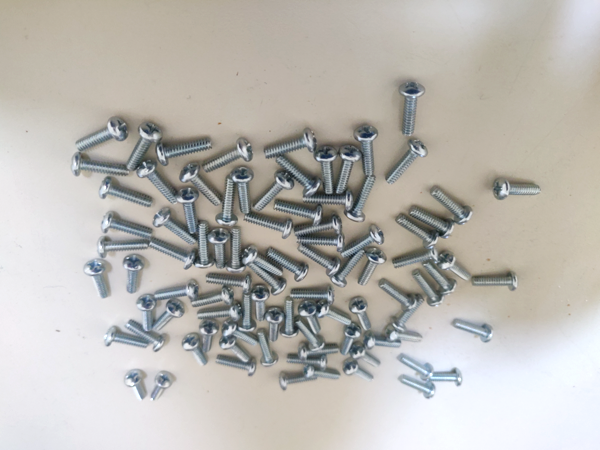shortscrew: (75, 116, 130, 153), (385, 139, 428, 185), (137, 160, 179, 206), (179, 163, 223, 206), (277, 156, 321, 198), (127, 121, 163, 172), (253, 169, 295, 212), (202, 139, 254, 173), (430, 187, 474, 226), (156, 137, 213, 167), (264, 128, 317, 160), (99, 177, 153, 208), (153, 208, 198, 245), (395, 214, 440, 250), (409, 206, 456, 240), (70, 153, 130, 178), (149, 240, 197, 271), (344, 176, 376, 222), (266, 248, 309, 282), (398, 82, 425, 136), (341, 225, 385, 258), (298, 244, 342, 277), (330, 249, 367, 287), (101, 212, 153, 239), (244, 213, 294, 240), (274, 200, 323, 227), (126, 321, 167, 353), (336, 145, 363, 193), (379, 279, 418, 312), (354, 125, 379, 176), (215, 174, 239, 227), (422, 261, 458, 296), (390, 296, 424, 333), (248, 264, 287, 296), (242, 246, 283, 276), (230, 166, 255, 214), (293, 213, 343, 237), (413, 271, 445, 308), (314, 145, 338, 194), (98, 236, 150, 258), (358, 248, 387, 287), (493, 178, 542, 201), (303, 189, 354, 211), (154, 279, 200, 303), (177, 187, 200, 234), (104, 326, 149, 350), (471, 271, 519, 293), (194, 221, 216, 269), (153, 299, 185, 332), (83, 260, 109, 300), (190, 285, 235, 308), (207, 272, 252, 295), (295, 318, 325, 352), (438, 252, 472, 282), (392, 248, 440, 269), (315, 300, 352, 327), (296, 233, 345, 253), (398, 355, 434, 382), (222, 320, 258, 347), (452, 320, 494, 343), (208, 228, 231, 270), (225, 227, 246, 273), (399, 375, 436, 400), (290, 286, 336, 306), (216, 354, 256, 377), (197, 303, 242, 323), (220, 333, 251, 362), (182, 333, 208, 367), (123, 254, 145, 294), (297, 341, 340, 361), (298, 300, 322, 335), (257, 329, 279, 367), (237, 292, 257, 333), (350, 342, 381, 368), (349, 296, 372, 331), (363, 331, 402, 351), (342, 358, 373, 383), (136, 294, 156, 332), (280, 372, 318, 391), (286, 354, 328, 371), (251, 285, 270, 322), (341, 323, 362, 356), (151, 372, 174, 402), (199, 319, 219, 353), (124, 370, 145, 402), (427, 368, 462, 387), (384, 327, 423, 344), (304, 365, 341, 380)
